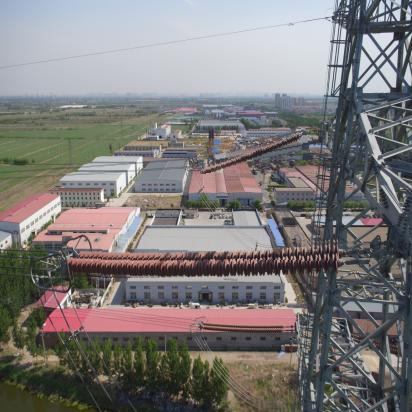insulator: (63, 236, 372, 284), (198, 134, 311, 170)
